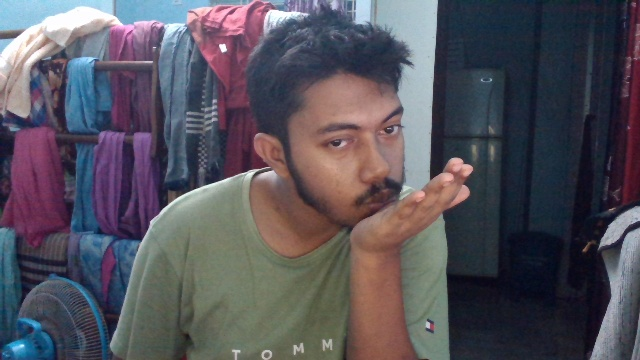iloveu: (251, 9, 486, 259)
